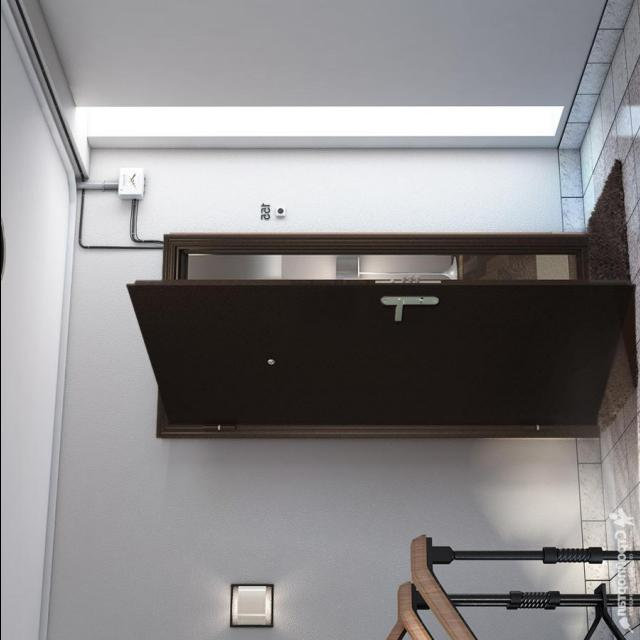open: (167, 238, 607, 440)
